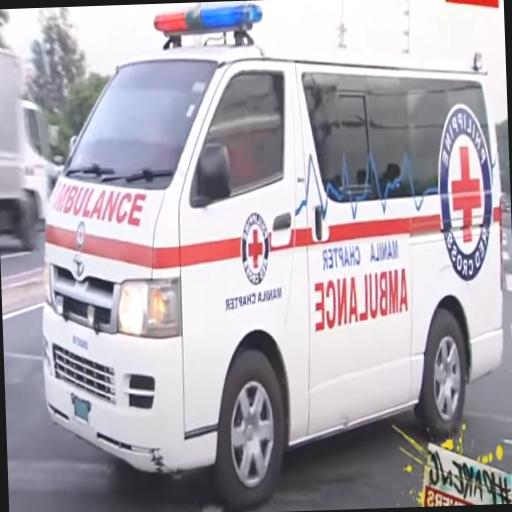Police car: (30, 0, 511, 509)
